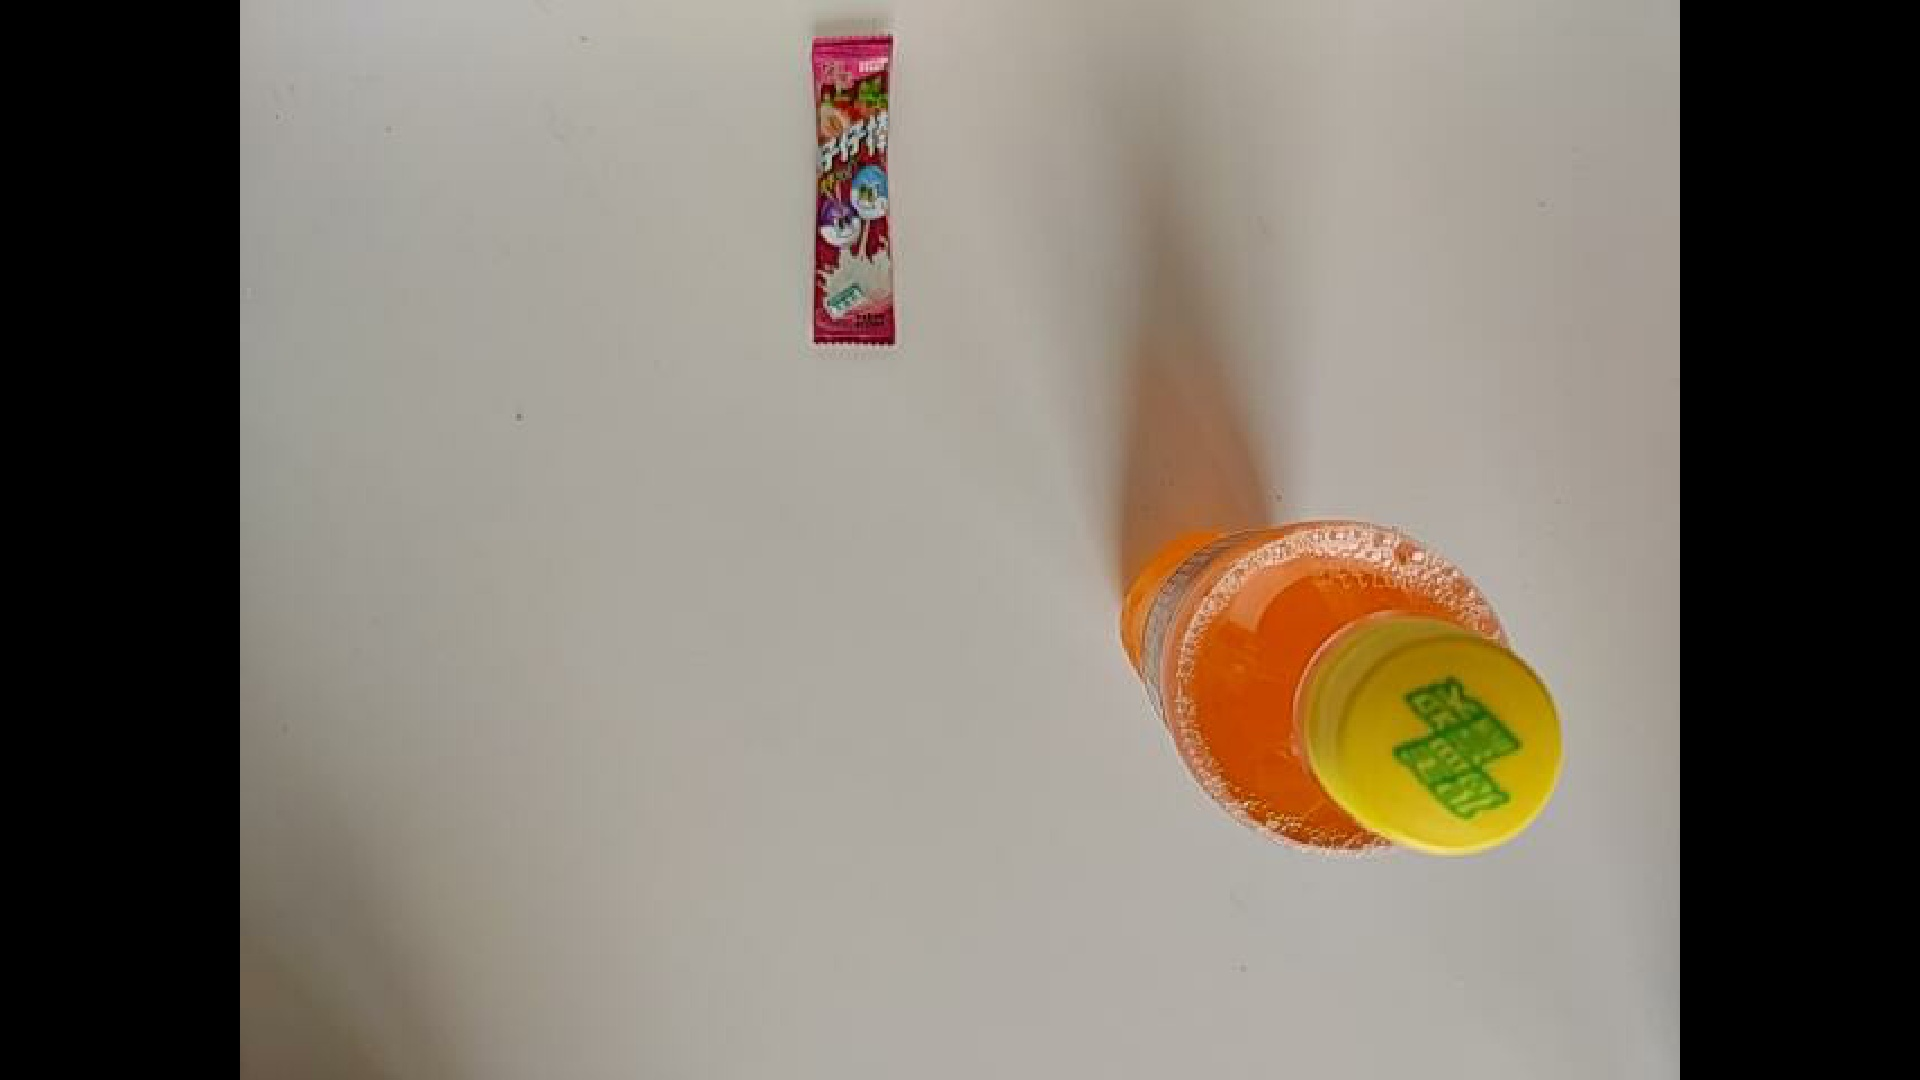fenta: (1117, 517, 1567, 861)
sugar: (806, 29, 899, 351)
